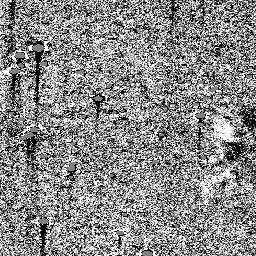LE: (215, 114, 249, 154)
